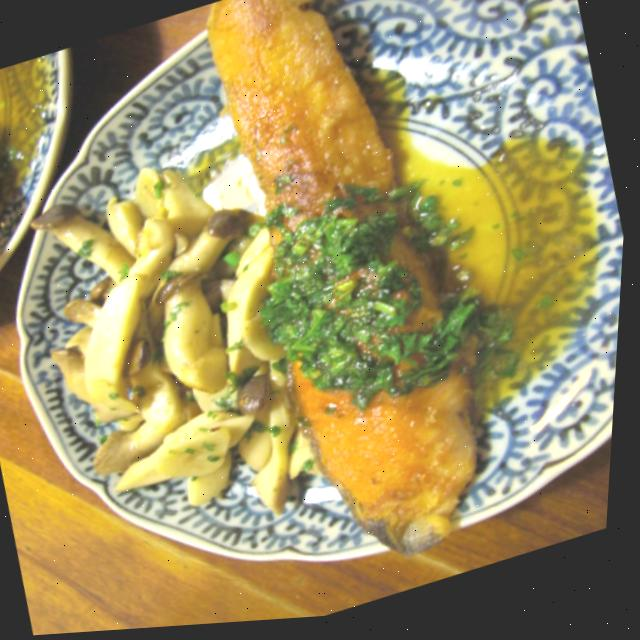熟制海鲜: (168, 0, 539, 619)
